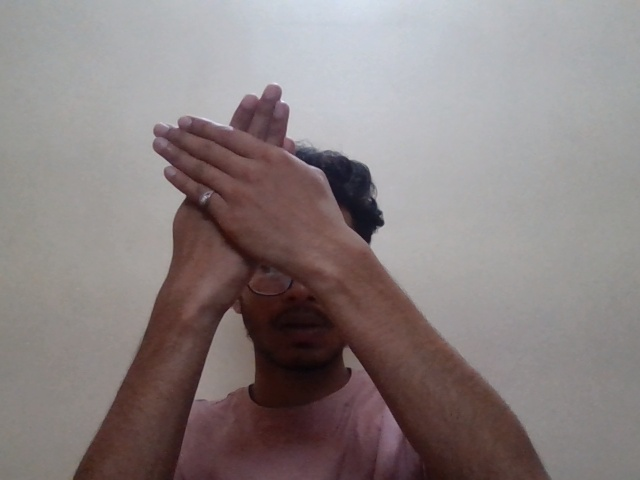what: (143, 80, 374, 306)
